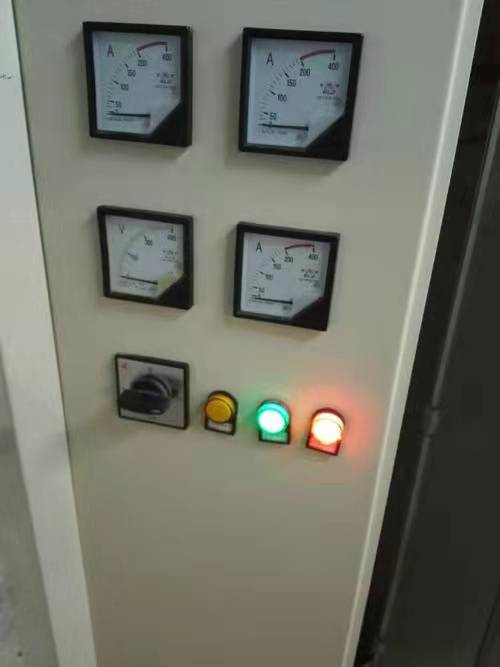pointer: (241, 28, 354, 150), (85, 23, 186, 140), (240, 230, 330, 315), (100, 213, 186, 299)
